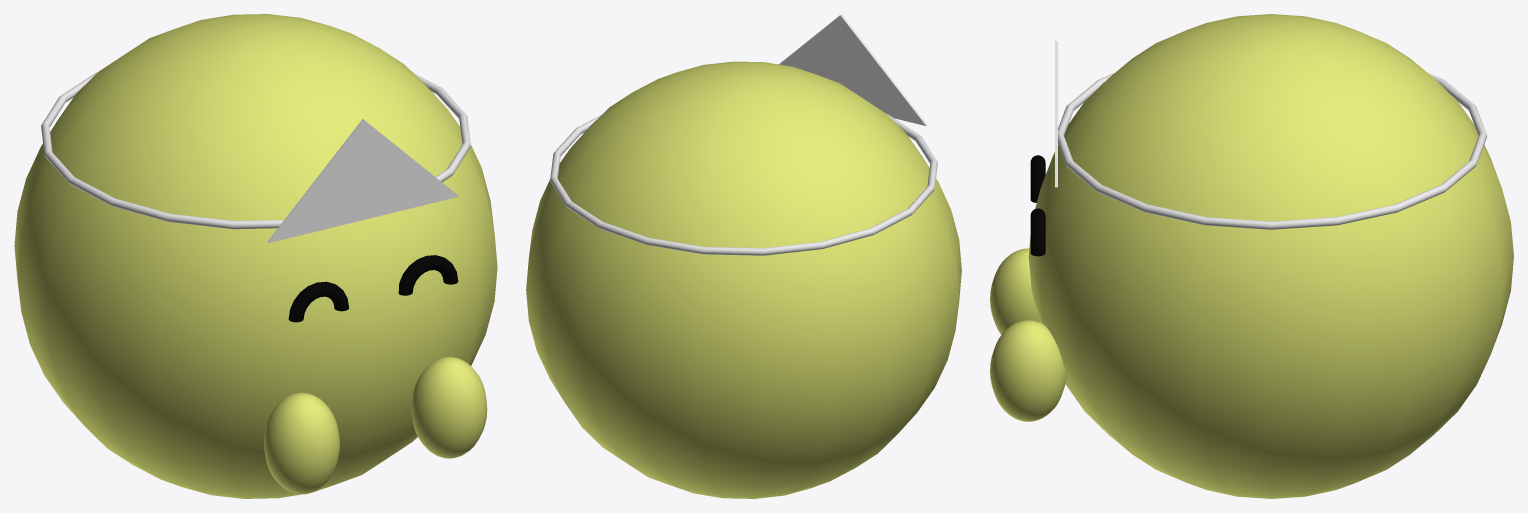
File: obake2.fbx
3 views of the same model, side by side, from view 1: azimuth 30°, elevation 25°; view 2: azimuth 150°, elevation 25°; view 3: azimuth 270°, elevation 25° (orthographic). The views are drawn at different scales.
Visible parts, largest first — view 1: pSphere7; view 2: pSphere7; view 3: pSphere7.
Part boxes in pixels (x1,y1,x2,y2): pSphere7: (14,14,497,498); pSphere7: (526,14,961,498); pSphere7: (990,14,1513,498).
Bounding box in the file's own units: 2 × 2 × 2.16.
